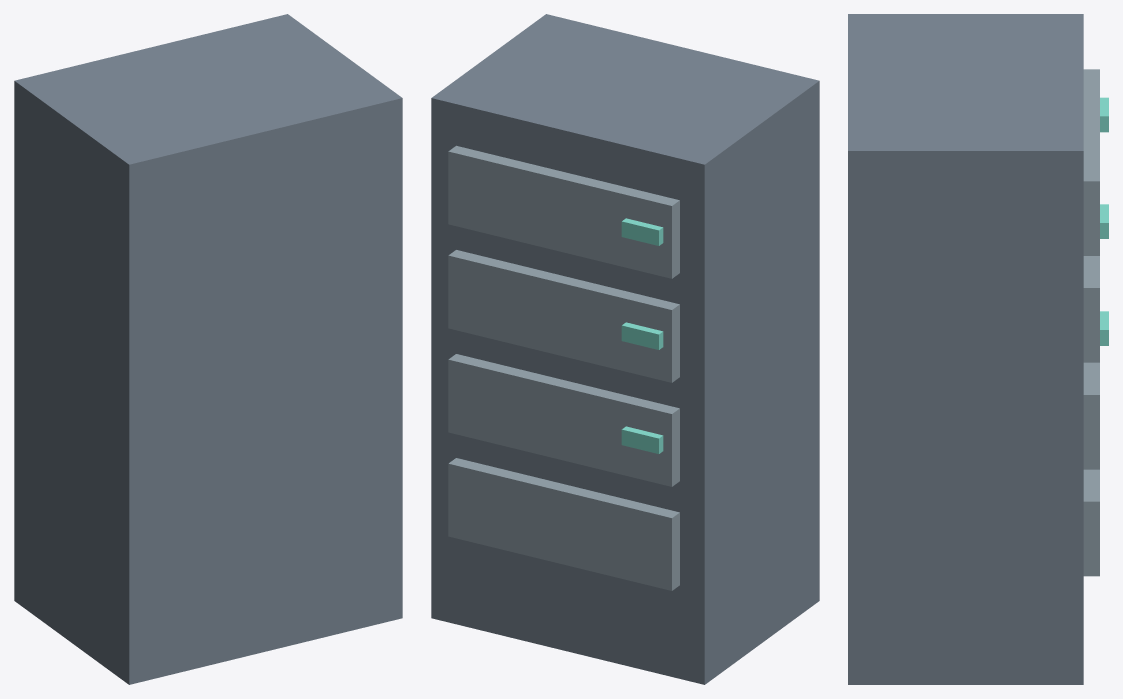
Rendered from warlike-server-rack-3d.gltf.
3 views of the same model, side by side, from view 1: azimuth 30°, elevation 25°; view 2: azimuth 150°, elevation 25°; view 3: azimuth 270°, elevation 25° (orthographic). The views are drawn at different scales.
Size of the model in its own units: 1.1 by 2 by 0.885.
